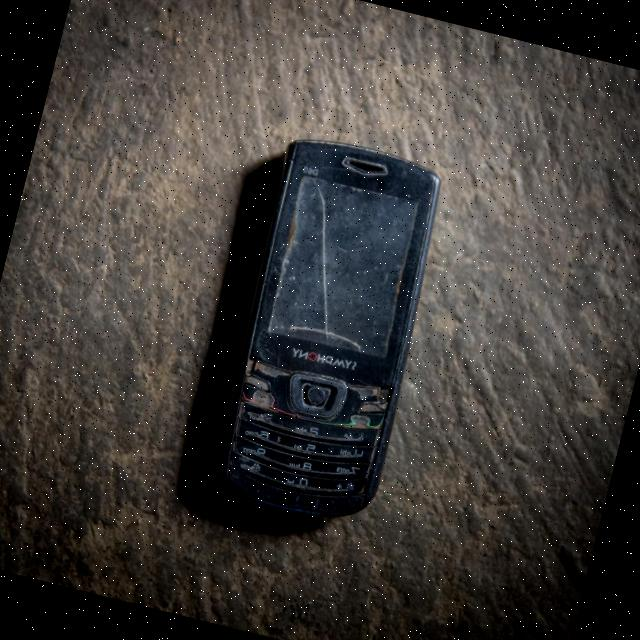Phone: (202, 127, 458, 535)
